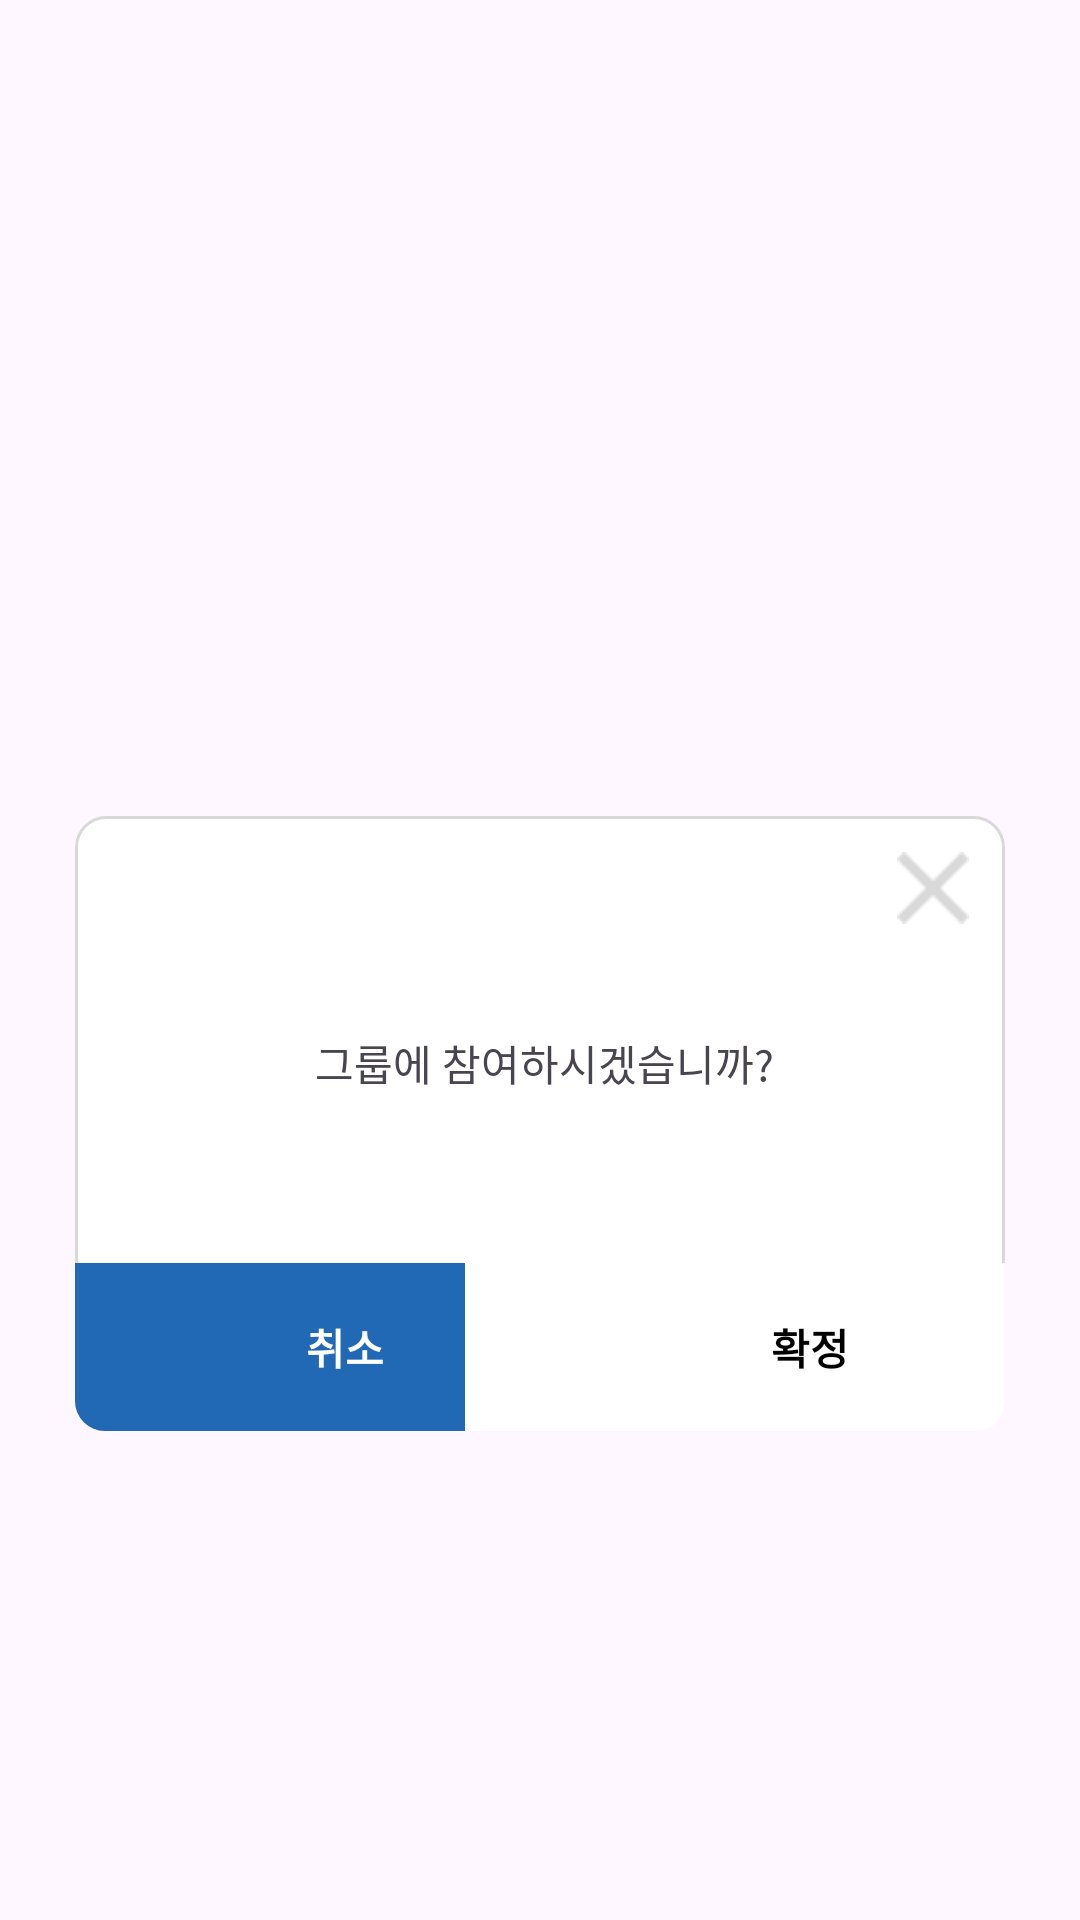

Where icons sit on this 1080px×1920px app screen, as detection(x1, y1, x2, y2):
xmark: detection(898, 853, 968, 923)
